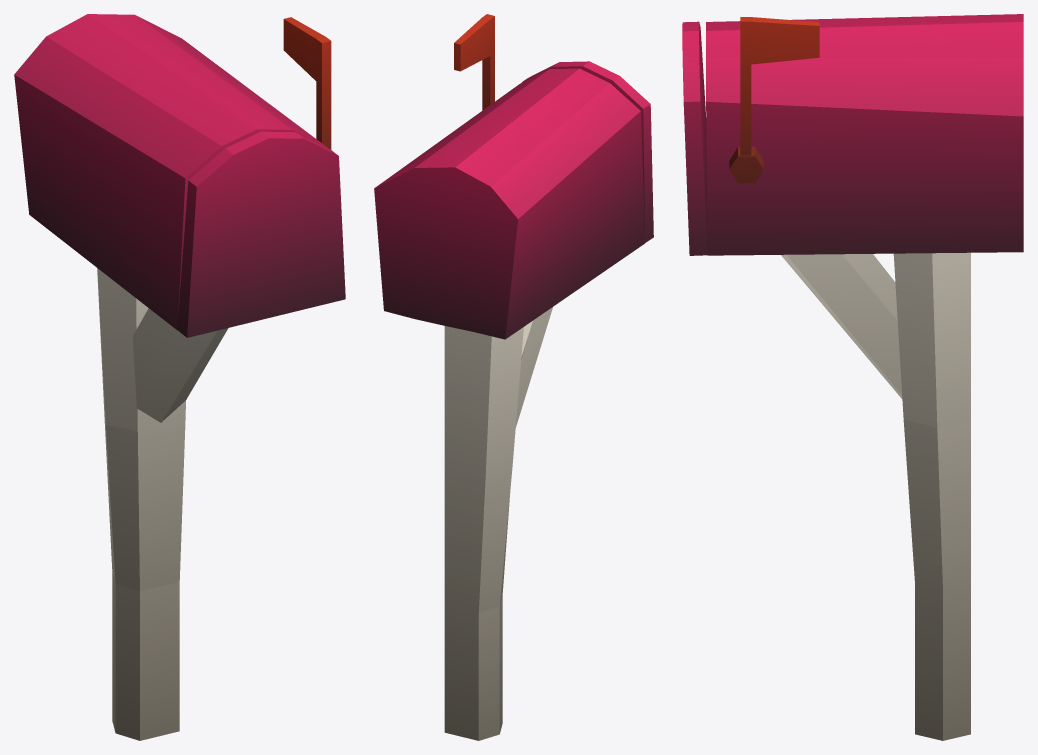
3 views of the same model, side by side, from view 1: azimuth 30°, elevation 25°; view 2: azimuth 150°, elevation 25°; view 3: azimuth 270°, elevation 25° (orthographic). The views are drawn at different scales.
Parts seen in each view (by area): view 1: 3.001; view 2: 3.001; view 3: 3.001.
Part boxes in pixels (<box>): 3.001: <box>14,14,345,740</box>; 3.001: <box>374,14,653,740</box>; 3.001: <box>682,14,1023,740</box>.
Bounding box in the file's own units: 0.7986 × 3.16 × 1.31.
1 material, 1 textured.
